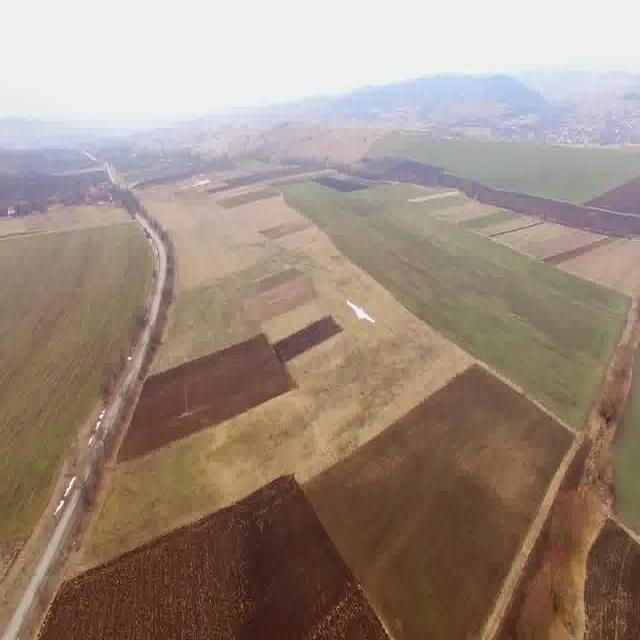iha: (339, 312, 390, 316)
